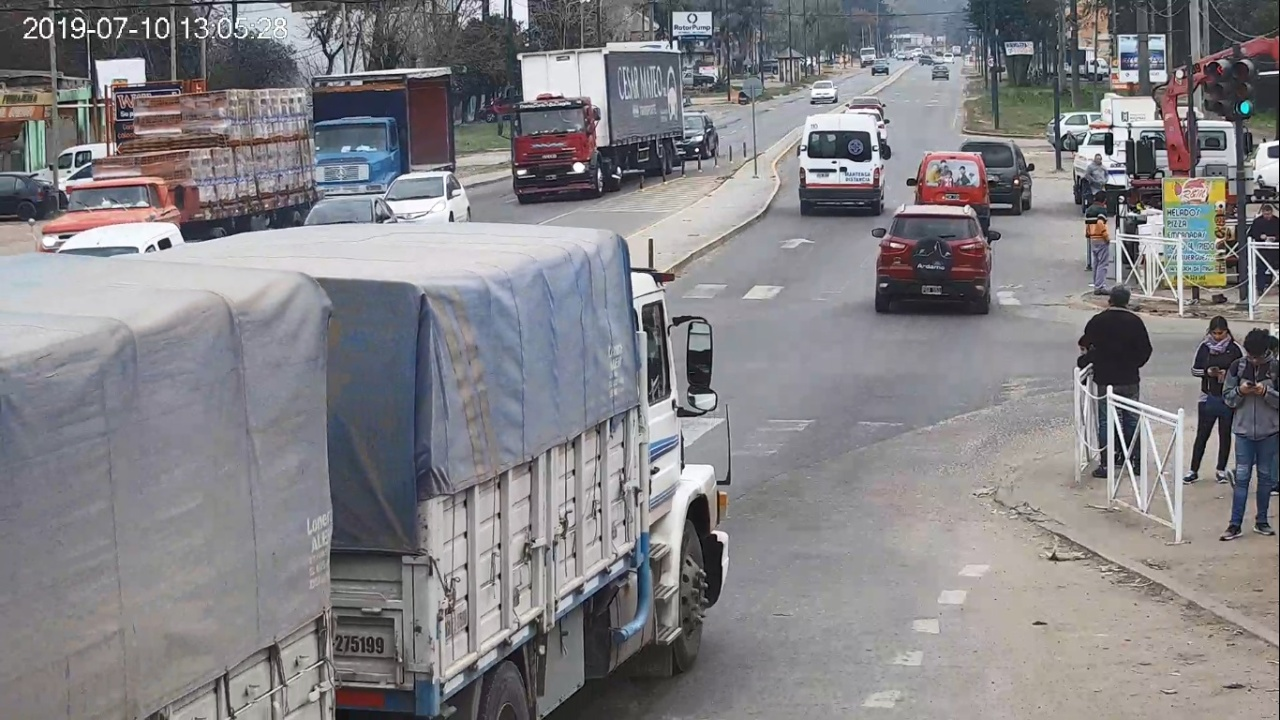car: (872, 205, 1001, 315)
traffic light: (1233, 58, 1253, 117)
truck: (6, 224, 735, 720)
